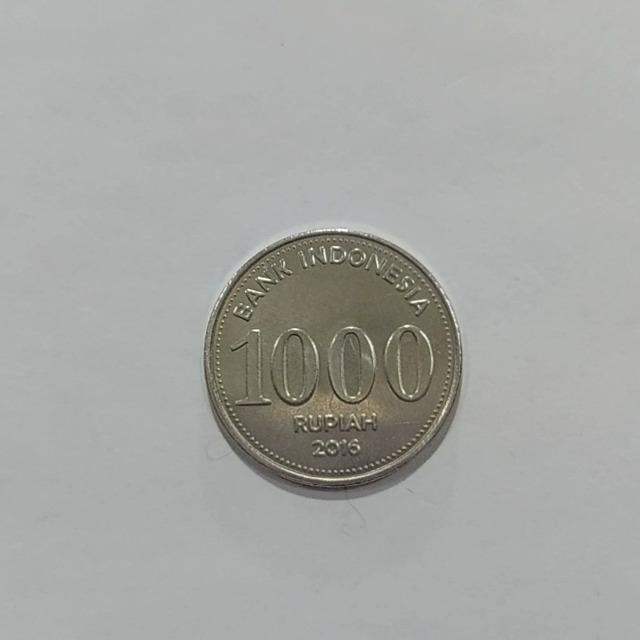Rp100: (201, 226, 464, 493)
